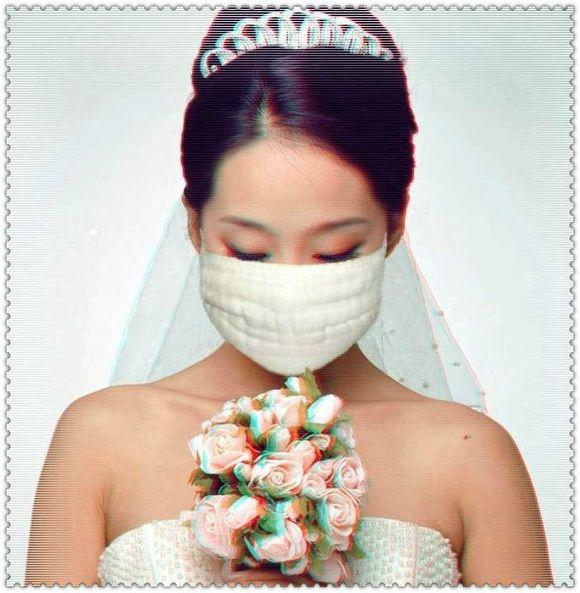OK: (206, 204, 375, 373)
